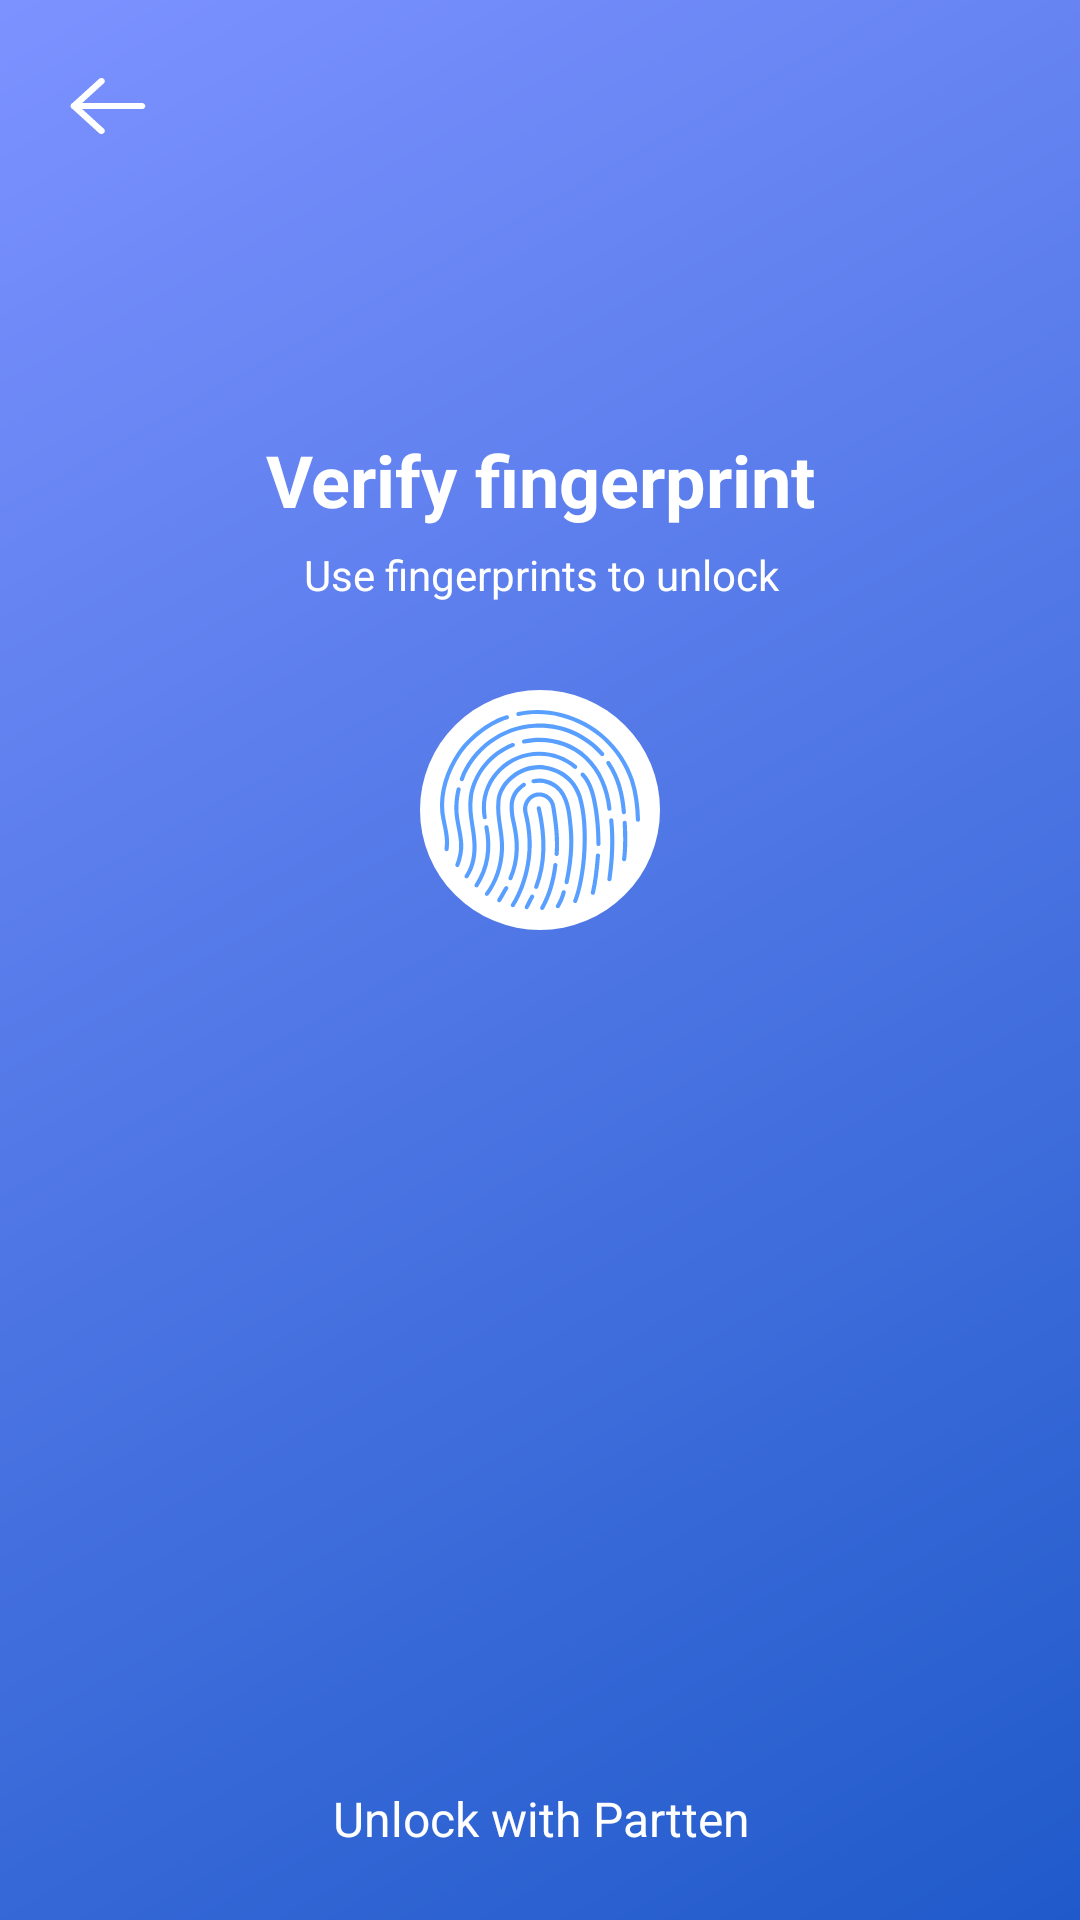

Screen size 1080 x 1920. Icon name, then its box in pixels as (x1, y1, x2, y2):
back: (70, 78, 146, 134)
